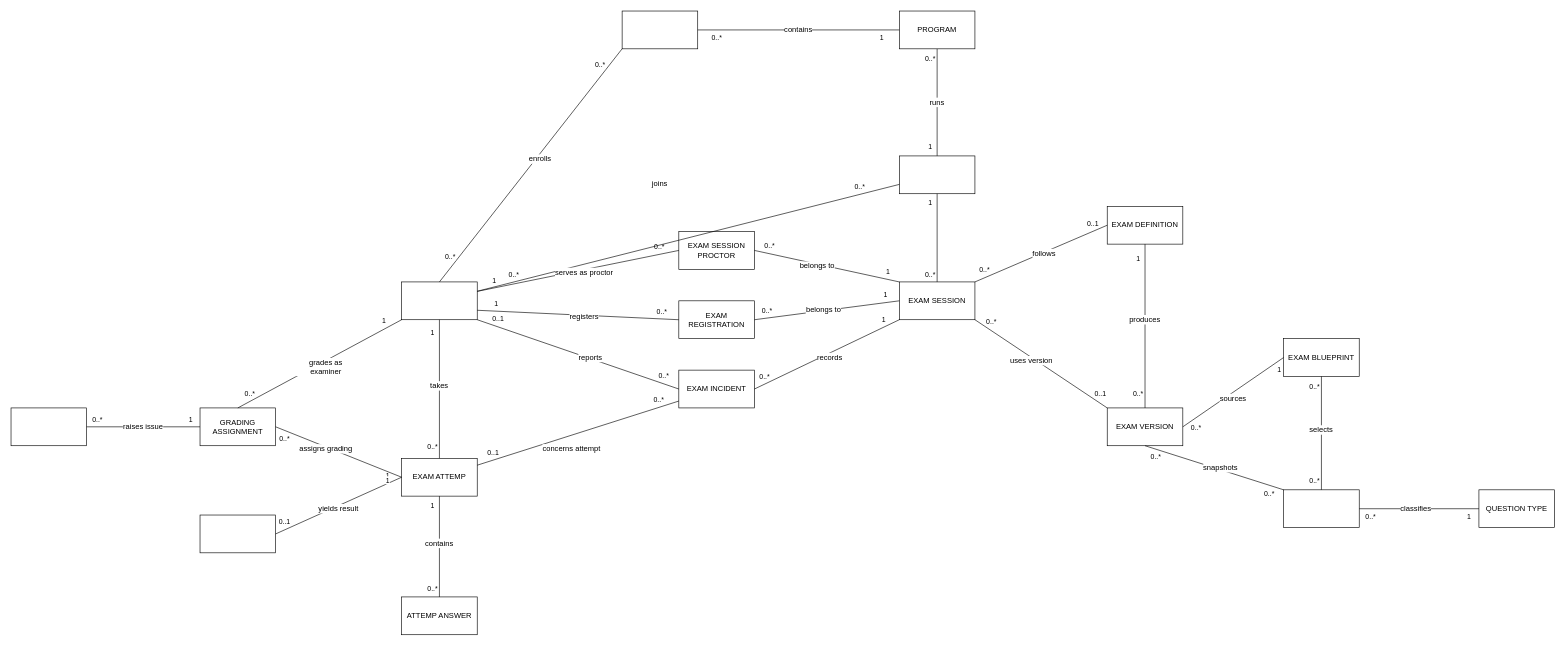
Some shapes in this 1566 by 646 pixel diagram are drawn without their labels. The shapes that lost their labels are listed below. From the top down, each one's box as (x1, y1, x2, y2) in pixels, then its label:
(621, 10, 698, 49): CLASS
(899, 155, 975, 194): ORGANIZTION
(401, 281, 477, 320): USER
(10, 407, 87, 446): GRADING ISSUE
(1283, 489, 1359, 528): QUESTION
(199, 514, 276, 553): RESULT
